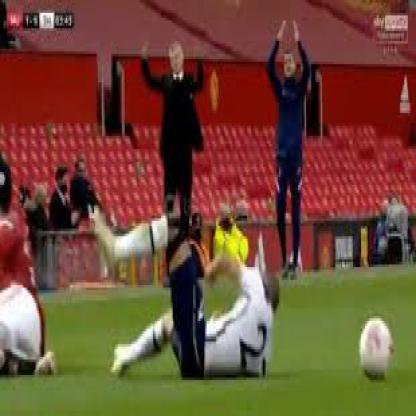Fall_Down: (83, 201, 279, 387)
